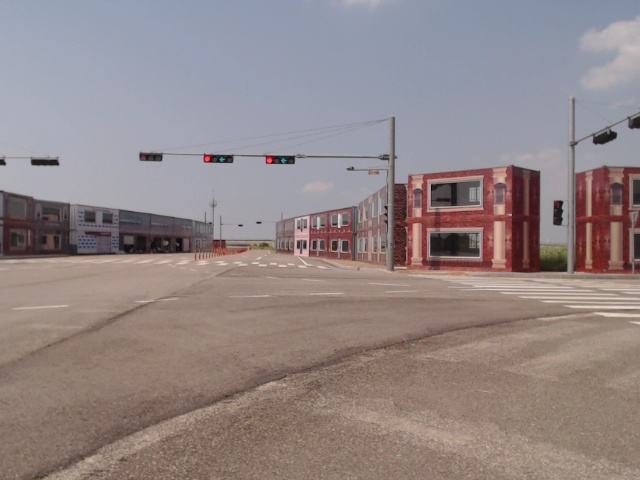left_green_4: (204, 155, 233, 163), (266, 156, 295, 164)
